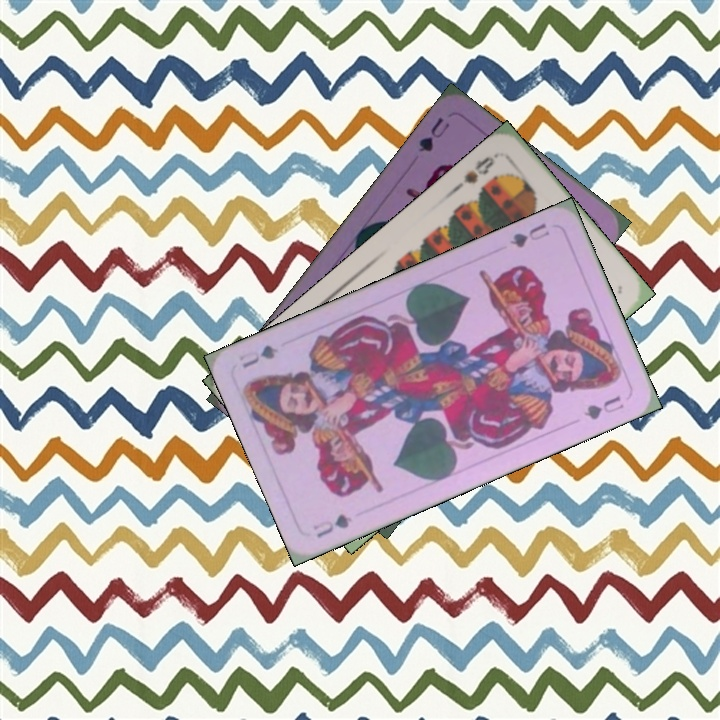GU: (413, 113, 453, 155), (506, 218, 552, 251), (309, 510, 355, 541)
S8: (459, 149, 501, 186)
